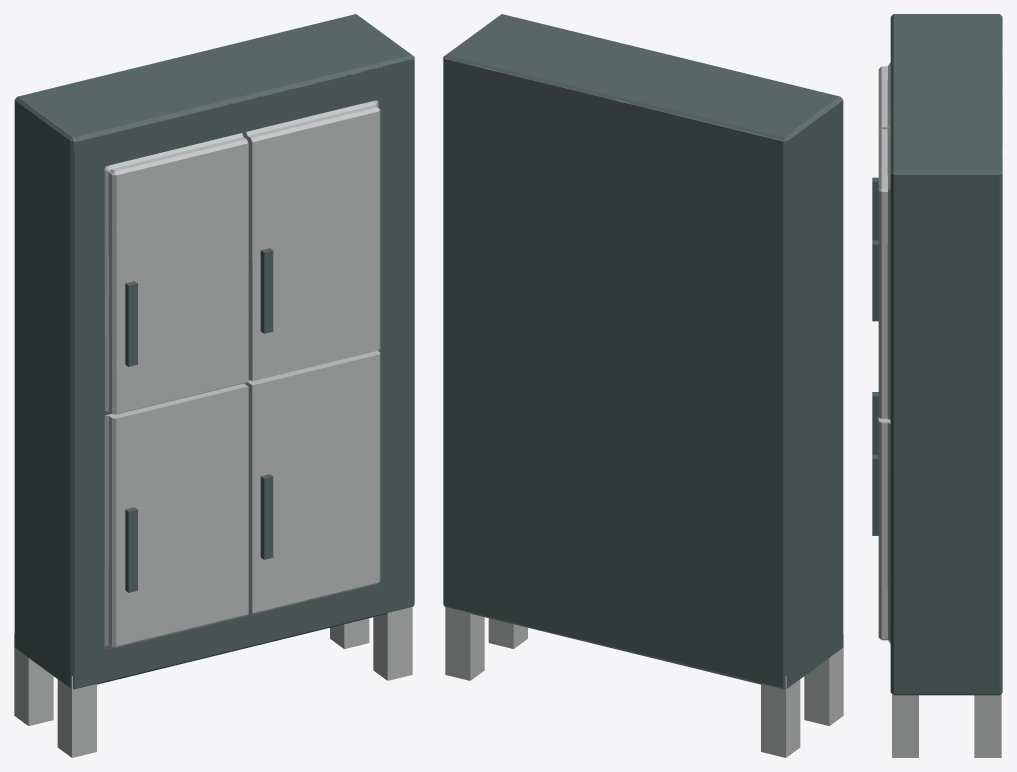
Rendered from Cabinet_Model.fbx.
The picture shows the model from 3 angles, left to right: view 1: azimuth 30°, elevation 25°; view 2: azimuth 150°, elevation 25°; view 3: azimuth 270°, elevation 25°; orthographic projection. The views are drawn at different scales.
Visible parts, largest first — view 1: armadietto; view 2: armadietto; view 3: armadietto.
Boxes of the visible parts, x1,y1,x2,y2 form: armadietto: (14,14,414,757); armadietto: (443,14,843,757); armadietto: (872,14,1002,757).
Size of the model in its own units: 0.0648 by 0.1114 by 0.0224.
Materials: 1 (1 with a texture image).
